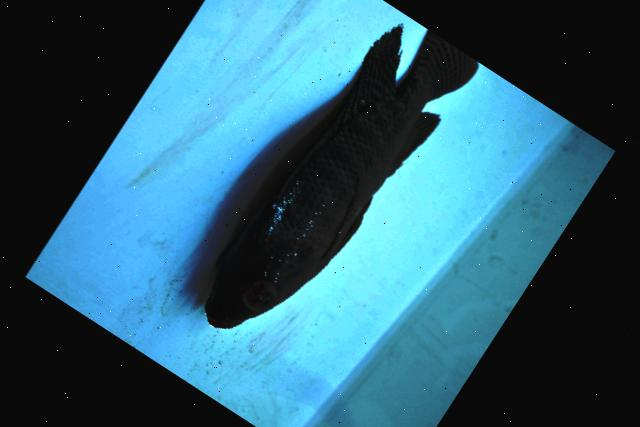Streptococcus: (205, 25, 477, 327)
